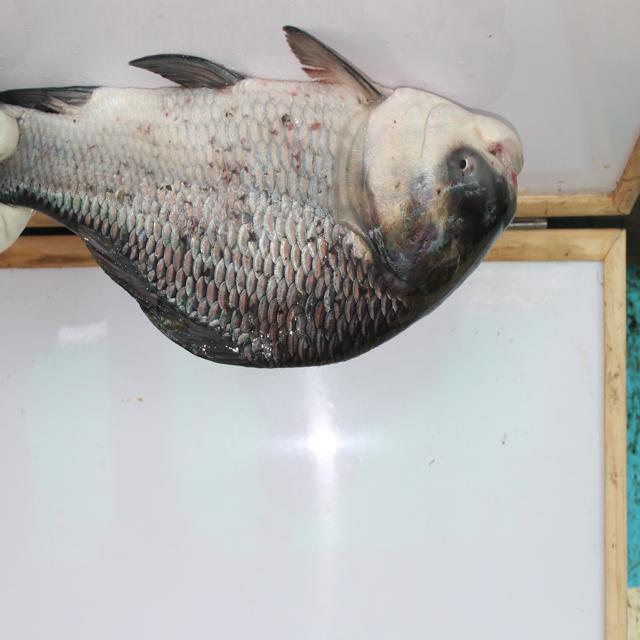Catla: (3, 22, 529, 367)
